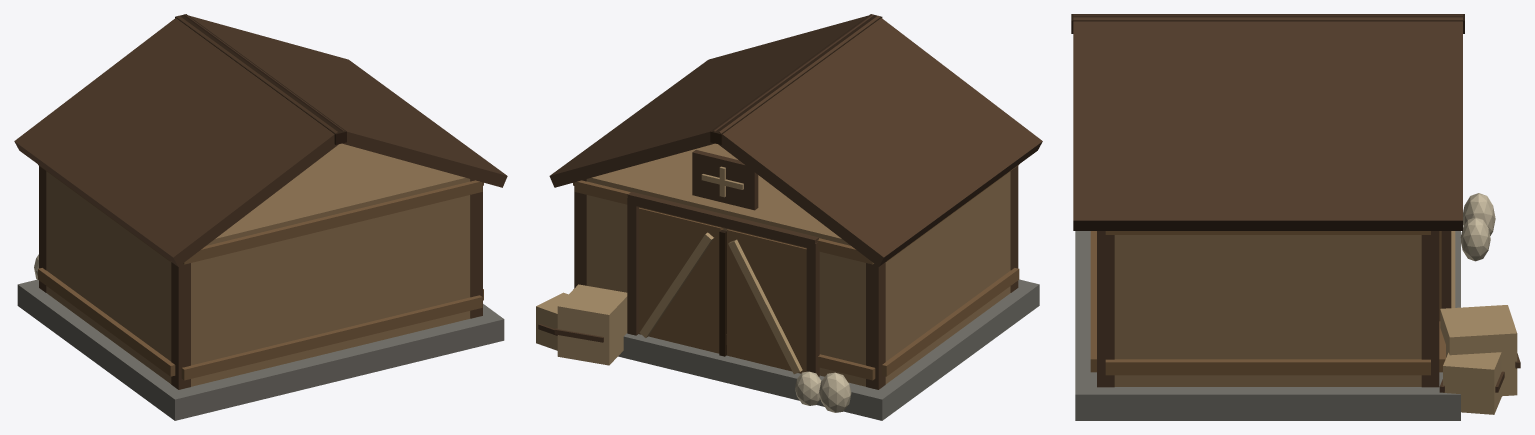
The model's file is tidefall_warehouse_polyfork_style.glb.
3 views of the same model, side by side, from view 1: azimuth 30°, elevation 25°; view 2: azimuth 150°, elevation 25°; view 3: azimuth 270°, elevation 25° (orthographic). The views are drawn at different scales.
Parts seen in each view (by area): view 1: Warehouse; view 2: Warehouse; view 3: Warehouse.
Part boxes in pixels (x1,y1,x2,y2): Warehouse: (14,14,507,420); Warehouse: (536,14,1042,420); Warehouse: (1071,14,1520,420).
Size of the model in its own units: 5.9 by 4.21 by 5.59.
